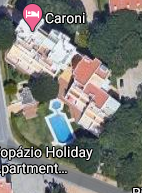pool: (50, 113, 73, 142)
